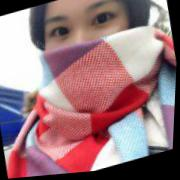WRONG: (35, 1, 148, 112)
